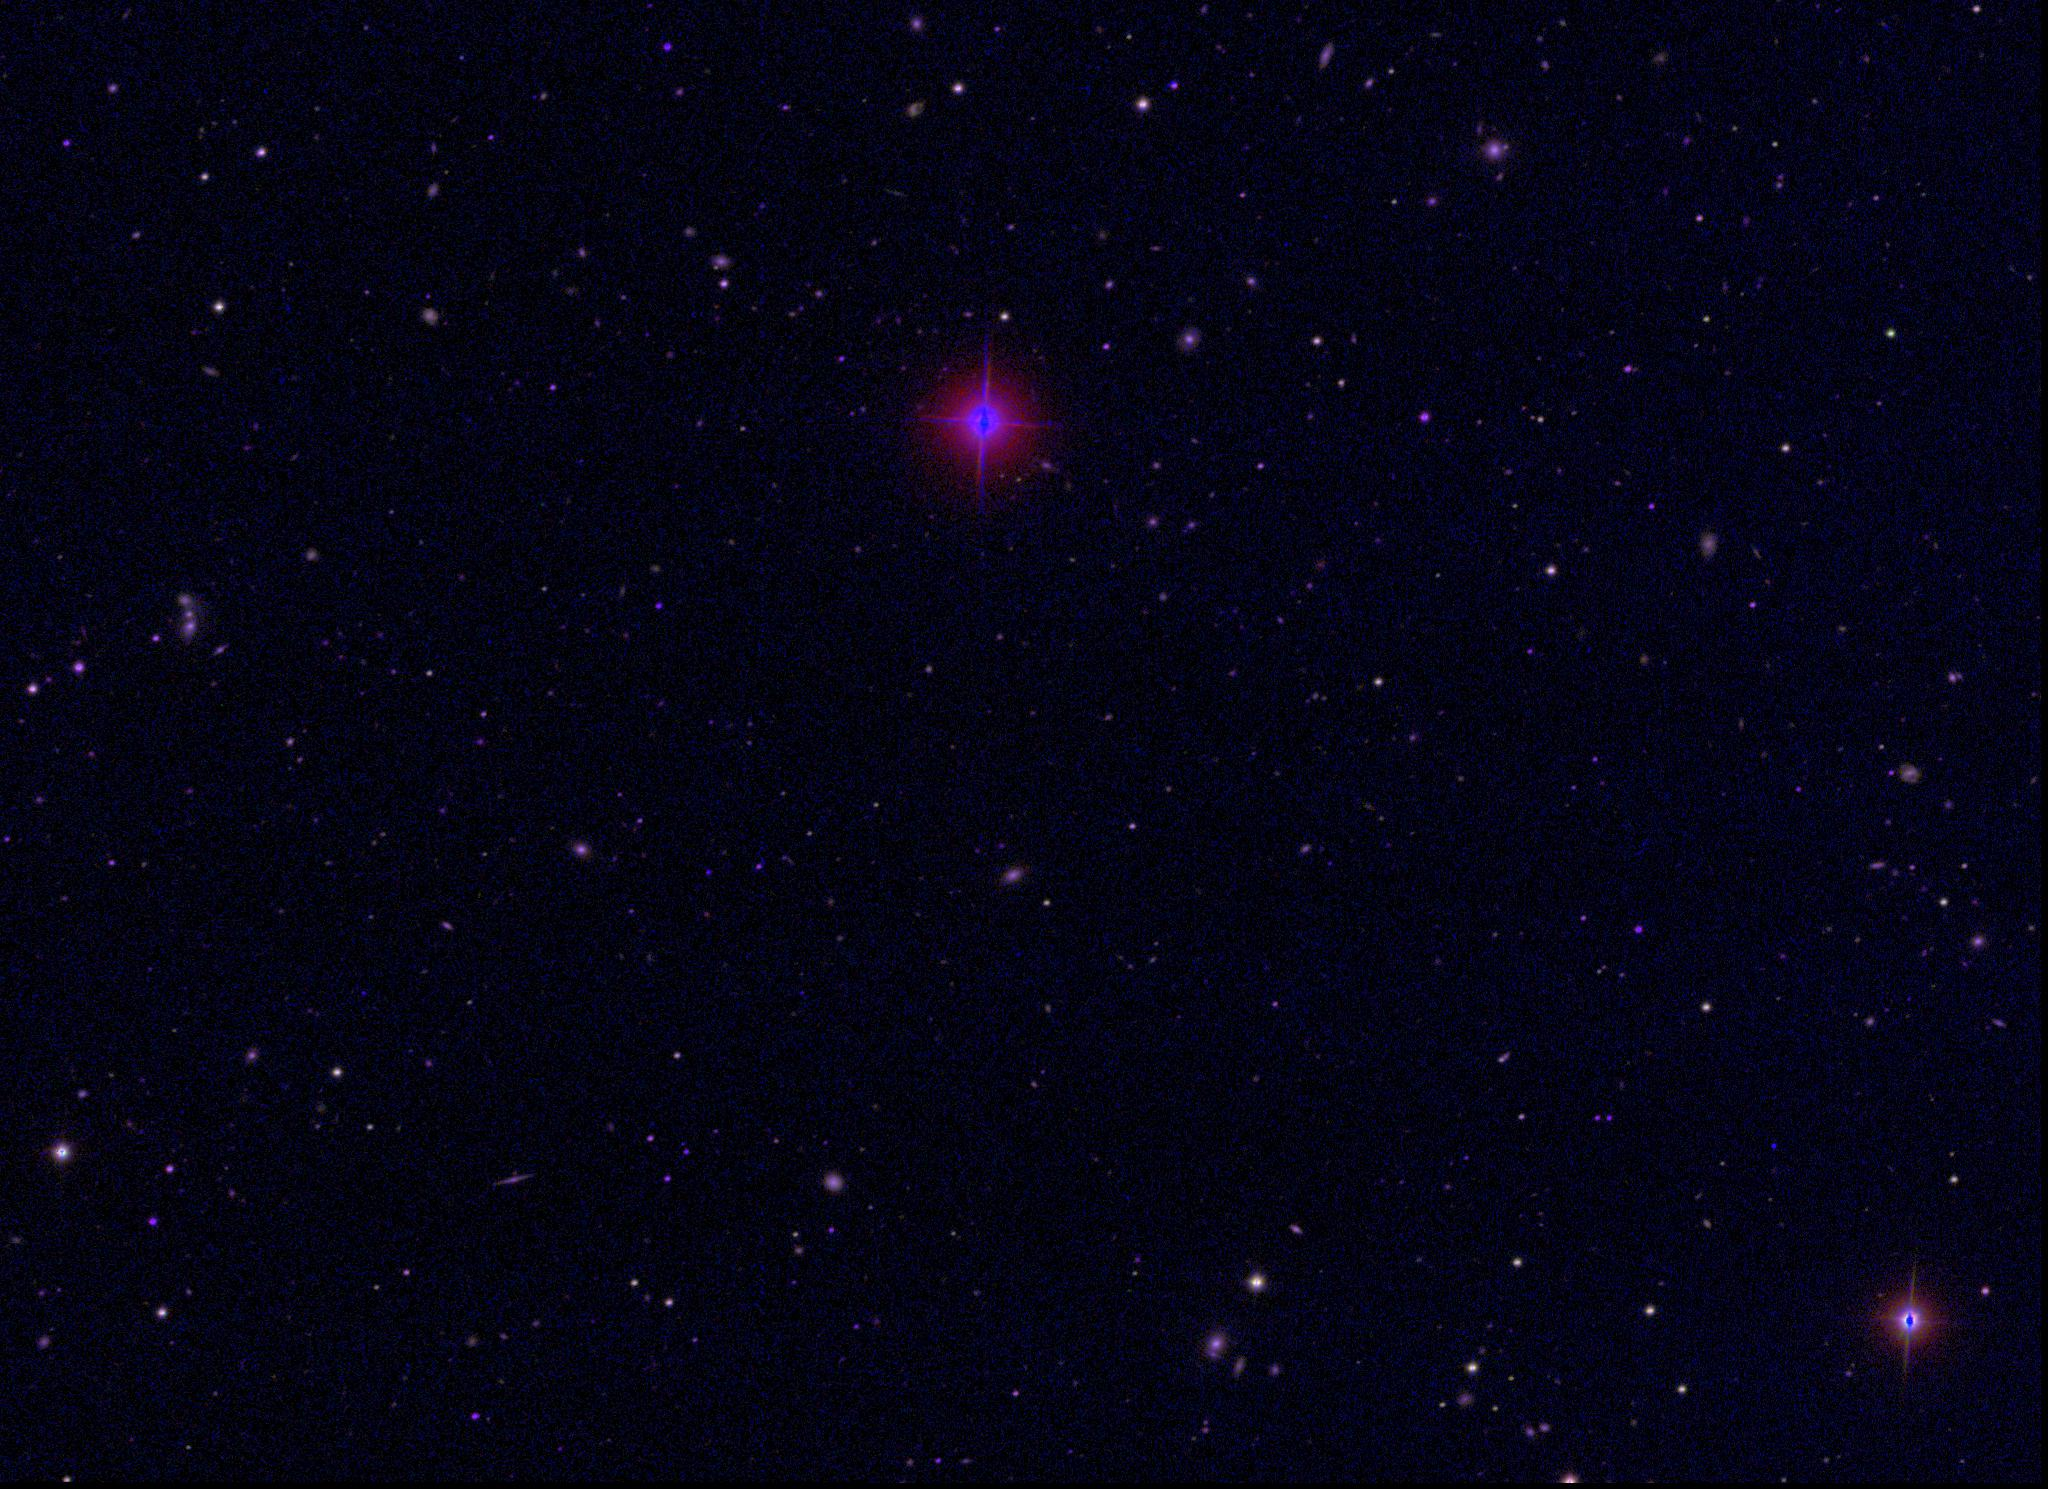L: (1767, 1137, 1781, 1152)
